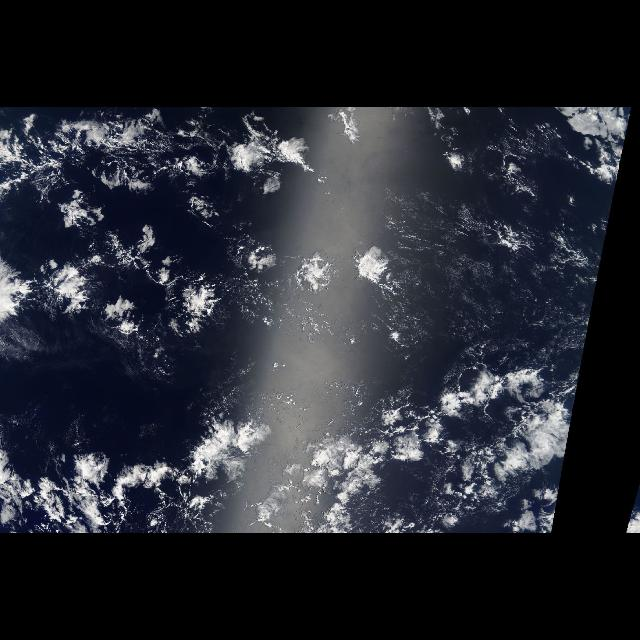Fish: (2, 418, 278, 530)
Flower: (2, 113, 582, 533), (624, 482, 640, 534)
Sugar: (392, 202, 590, 358)
